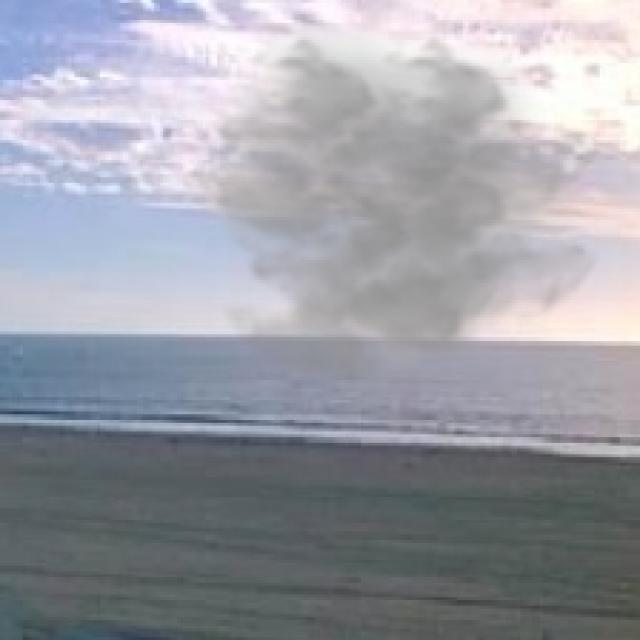smoke: (183, 23, 603, 414)
